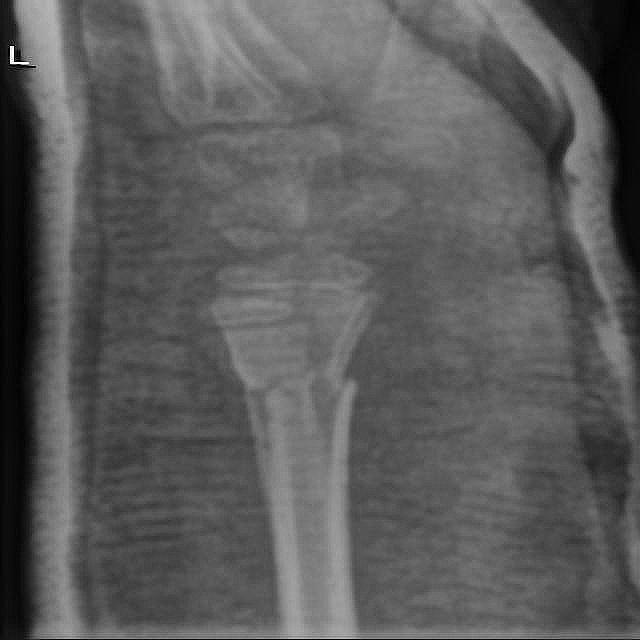bone: (230, 353, 366, 414)
